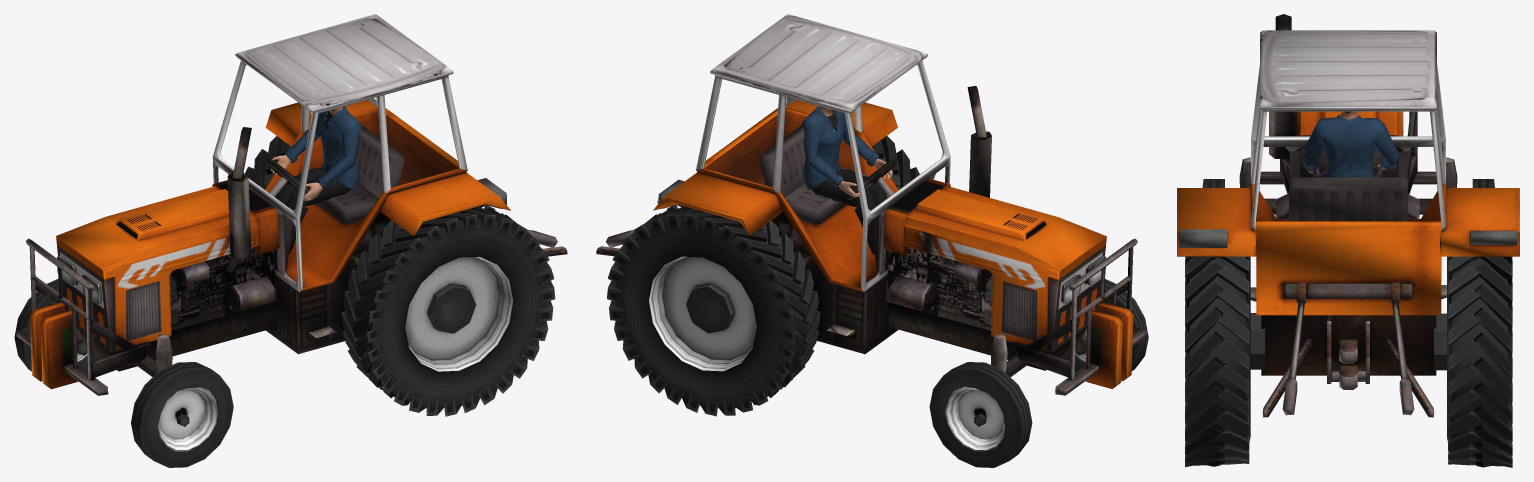
File: tractor-fiat-480.glb
3 renders of one model, left to right at view 1: azimuth 30°, elevation 25°; view 2: azimuth 150°, elevation 25°; view 3: azimuth 270°, elevation 25°, orthographic. The views are drawn at different scales.
Visible parts, largest first — view 1: Tractor_Body, Back_Left_Wheel, Front_Left_Wheel, Driver, Front_Right_Wheel, Back_Right_Wheel; view 2: Tractor_Body, Back_Right_Wheel, Front_Right_Wheel, Driver, Front_Left_Wheel, Back_Left_Wheel; view 3: Tractor_Body, Back_Right_Wheel, Back_Left_Wheel, Driver.
Boxes of the visible parts, box(x1,y1,x2,y2) form: Tractor_Body: box(16, 14, 567, 426); Back_Left_Wheel: box(341, 205, 555, 416); Front_Left_Wheel: box(131, 362, 233, 467); Driver: box(271, 106, 361, 253); Front_Right_Wheel: box(14, 279, 99, 371); Back_Right_Wheel: box(245, 136, 291, 189); Tractor_Body: box(596, 14, 1146, 426); Back_Right_Wheel: box(607, 205, 820, 416); Front_Right_Wheel: box(929, 362, 1032, 467); Driver: box(802, 106, 892, 254); Front_Left_Wheel: box(1063, 279, 1148, 372); Back_Left_Wheel: box(872, 136, 919, 189); Tractor_Body: box(1177, 14, 1519, 417); Back_Right_Wheel: box(1434, 256, 1512, 467); Back_Left_Wheel: box(1185, 256, 1264, 467); Driver: box(1303, 111, 1399, 177).
Bounding box in the file's own units: 8.86 × 5.42 × 4.61.
Materials: 3 (3 with a texture image).
